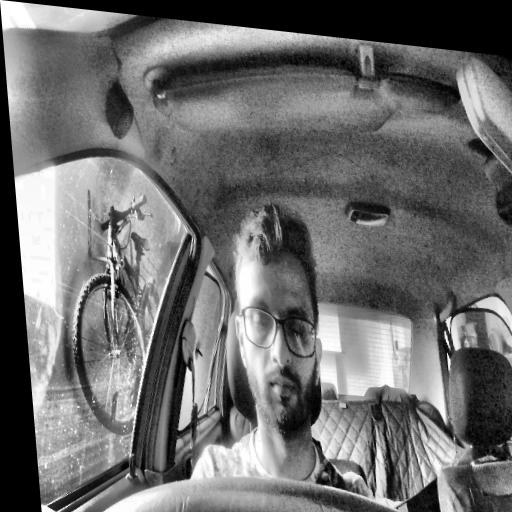drowsy: (225, 198, 332, 437)
